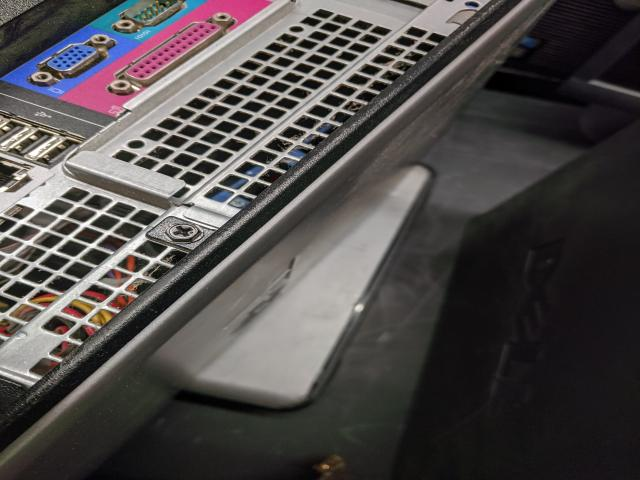CRS: (164, 222, 203, 241)
